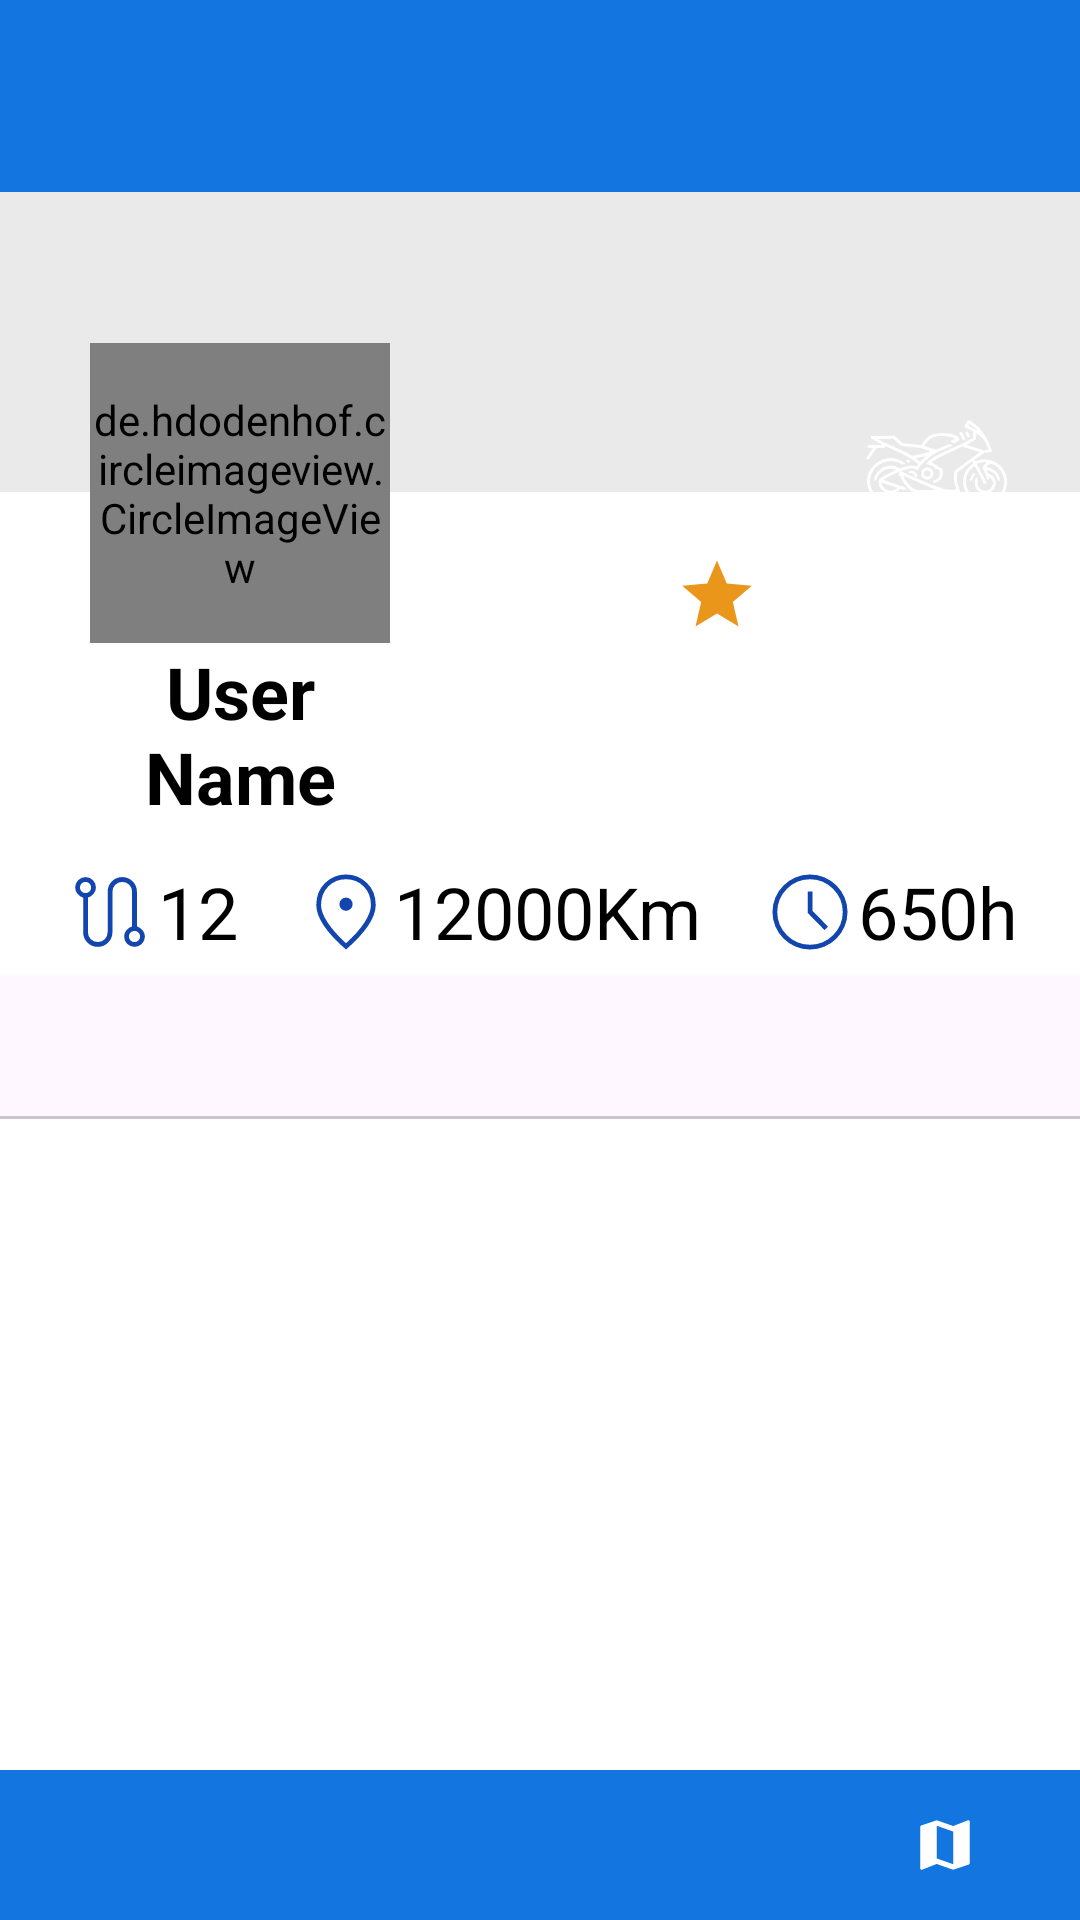

Screen size 1080x1920. Icon name, then its box in pixels as [x1=x1, y1=y1, x2=x2, y2=y2]:
distance: [x1=316, y1=874, x2=376, y2=950]
highlight: [x1=682, y1=561, x2=752, y2=627]
route: [x1=75, y1=877, x2=145, y2=947]
timer: [x1=772, y1=874, x2=848, y2=950]
